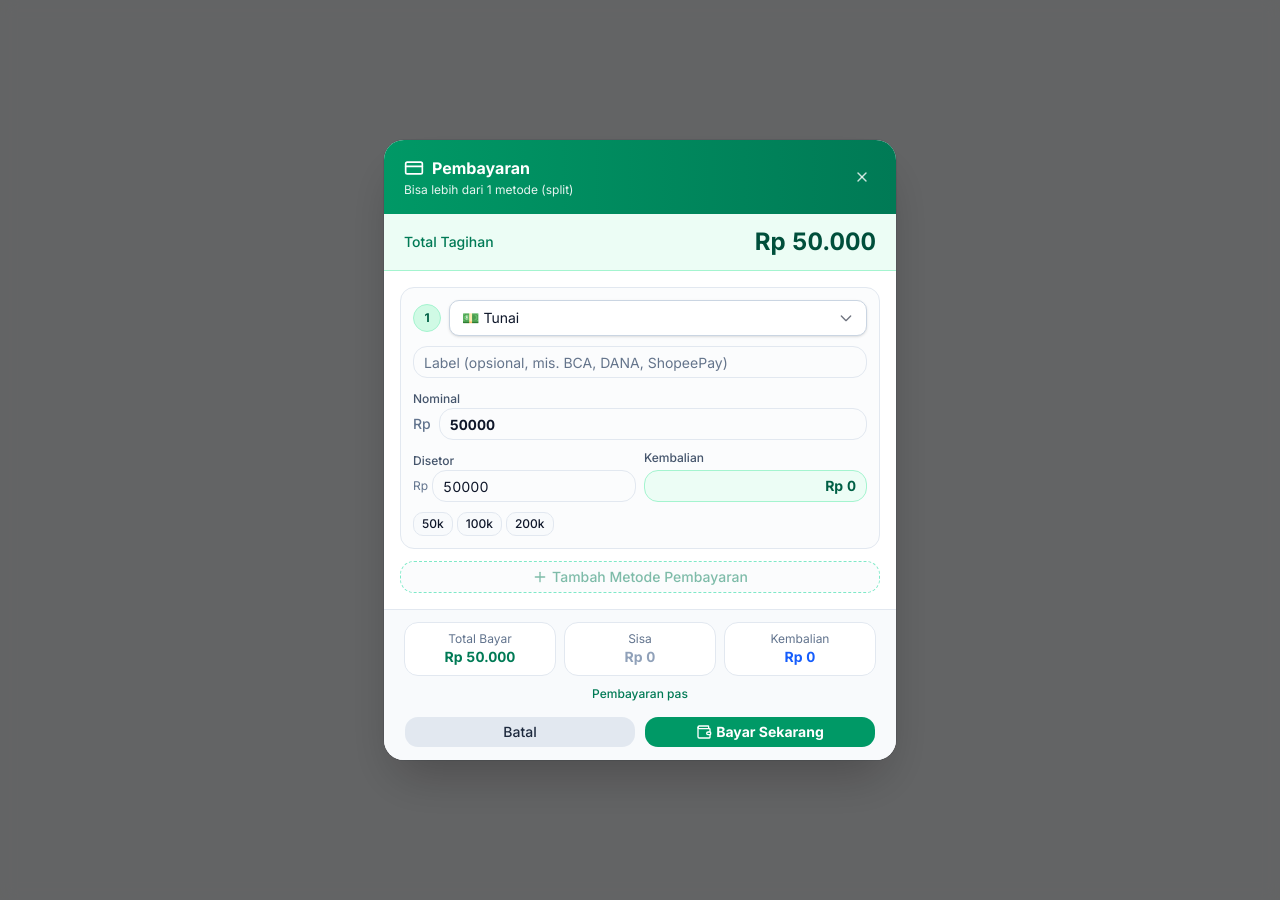
Test: PaymentForm.svelte (component test) › "Tambah Metode Pembayaran" button is enabled when remaining > 0
Replace the text in the number field labelled "Nominal" with "20000". click: coordinates (653, 424)
box: top-left (439, 408), bottom-right (867, 440)
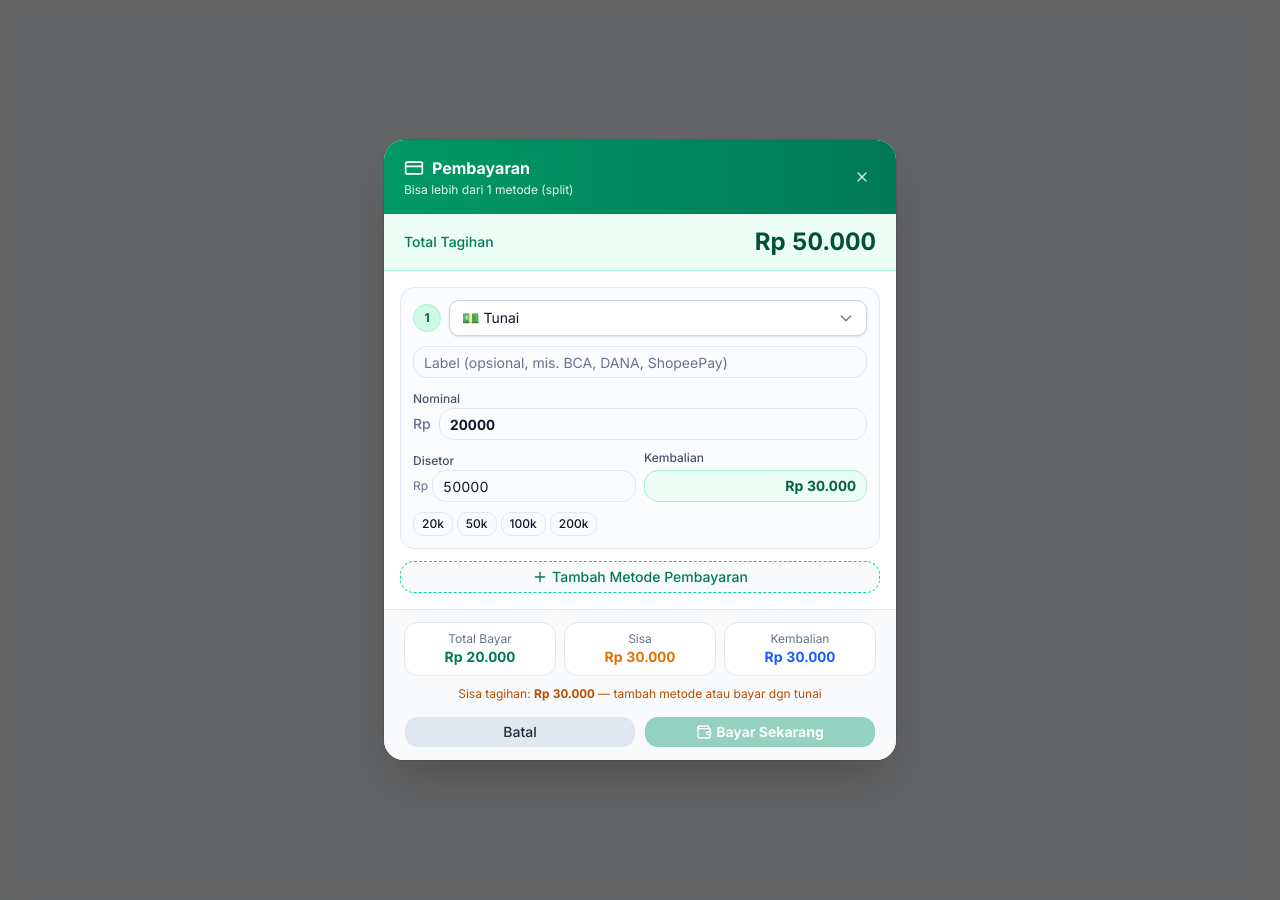
Check: the button "Tambah Metode Pembayaran" is enabled, box top-left (400, 561), bottom-right (880, 593)
